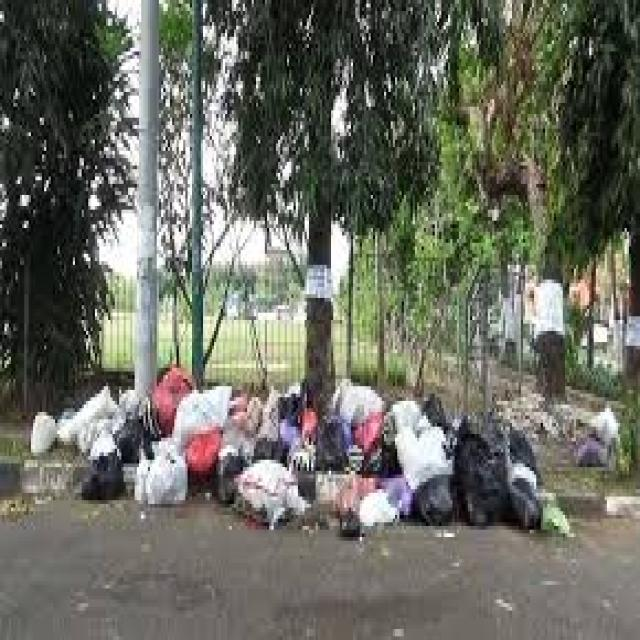trash: (21, 325, 560, 620)
